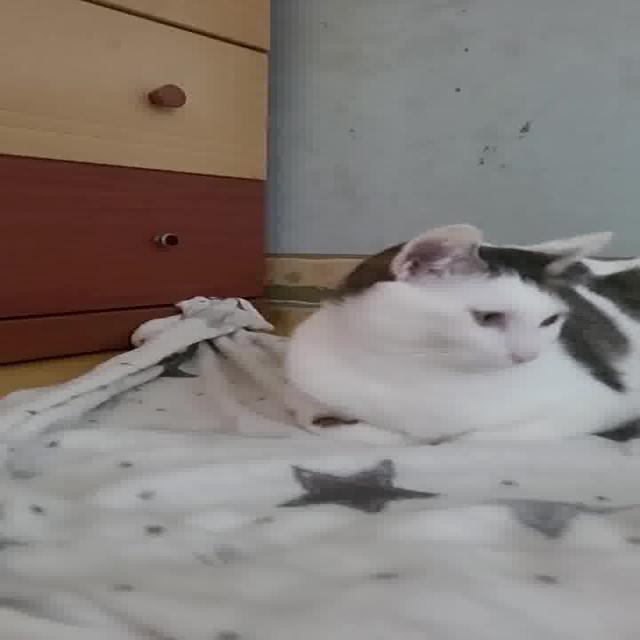cat: (292, 222, 640, 451)
